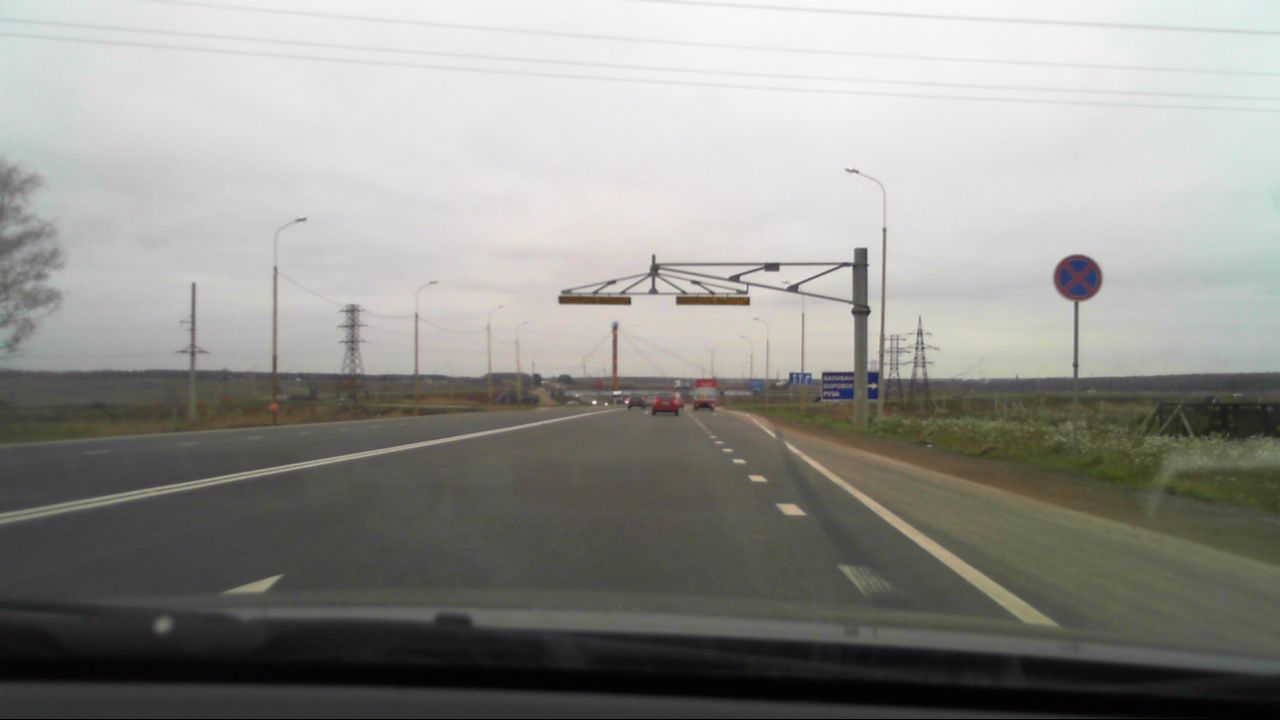No Parking: (1050, 253, 1106, 304)
